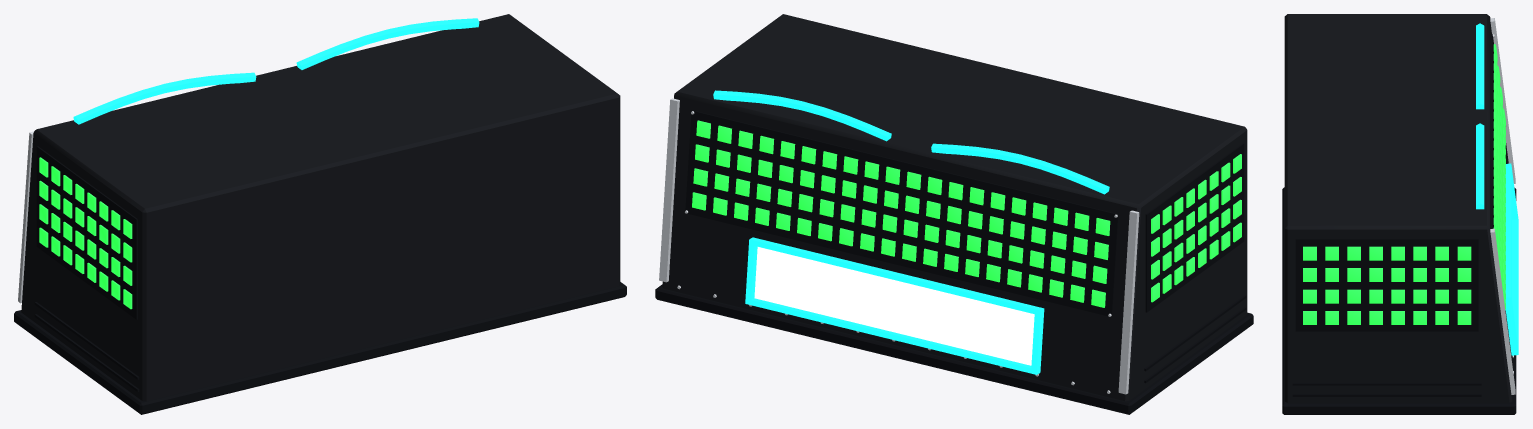
The model's file is deck_eyebrow.glb.
The picture shows the model from 3 angles, left to right: view 1: azimuth 30°, elevation 25°; view 2: azimuth 150°, elevation 25°; view 3: azimuth 270°, elevation 25°; orthographic projection. The views are drawn at different scales.
Parts seen in each view (by area): view 1: deck_eyebrow_deco_body, deck_eyebrow_deco_trim, deck_eyebrow_deco_led, deck_eyebrow_deco_neon, deck_eyebrow_chrome; view 2: deck_eyebrow_deco_body, deck_eyebrow_deco_trim, deck_eyebrow_deco_led, deck_eyebrow_acrylic_sign, deck_eyebrow_deco_neon, deck_eyebrow_chrome; view 3: deck_eyebrow_deco_body, deck_eyebrow_deco_trim, deck_eyebrow_deco_led, deck_eyebrow_deco_neon, deck_eyebrow_chrome.
Part boxes in pixels (x1,y1,x2,y2): deck_eyebrow_deco_body: (21,14,620,401); deck_eyebrow_deco_trim: (14,146,626,414); deck_eyebrow_deco_led: (39,157,132,309); deck_eyebrow_deco_neon: (73,18,479,124); deck_eyebrow_chrome: (18,131,33,303); deck_eyebrow_deco_body: (662,14,1247,401); deck_eyebrow_deco_trim: (655,110,1253,414); deck_eyebrow_deco_led: (692,120,1241,307); deck_eyebrow_acrylic_sign: (754,247,1034,365); deck_eyebrow_deco_neon: (713,90,1109,374); deck_eyebrow_chrome: (659,98,1139,394); deck_eyebrow_deco_body: (1284,14,1512,402); deck_eyebrow_deco_trim: (1282,34,1516,414); deck_eyebrow_deco_led: (1303,44,1505,324); deck_eyebrow_deco_neon: (1476,23,1518,355); deck_eyebrow_chrome: (1490,18,1515,394).
Size of the model in its own units: 2.14 by 0.929 by 0.9803.
